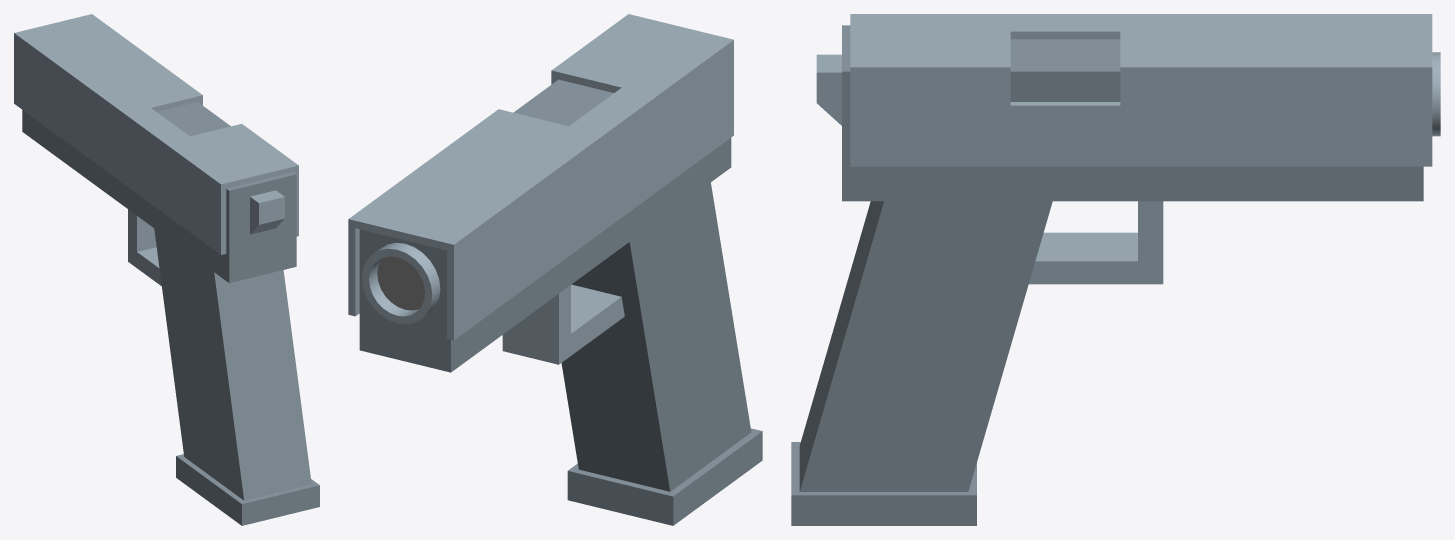
Rendered from pistol.gltf.
3 renders of one model, left to right at view 1: azimuth 30°, elevation 25°; view 2: azimuth 150°, elevation 25°; view 3: azimuth 270°, elevation 25°, orthographic. The views are drawn at different scales.
Visible parts, largest first — view 1: Group (×2); view 2: Group (×2); view 3: Group (×2).
Boxes of the visible parts, x1,y1,x2,y2 form: Group (×2): (14, 14, 319, 525); Group (×2): (348, 14, 762, 525); Group (×2): (791, 14, 1440, 525).
Bounding box in the file's own units: 0.0574 × 0.2297 × 0.2948.
